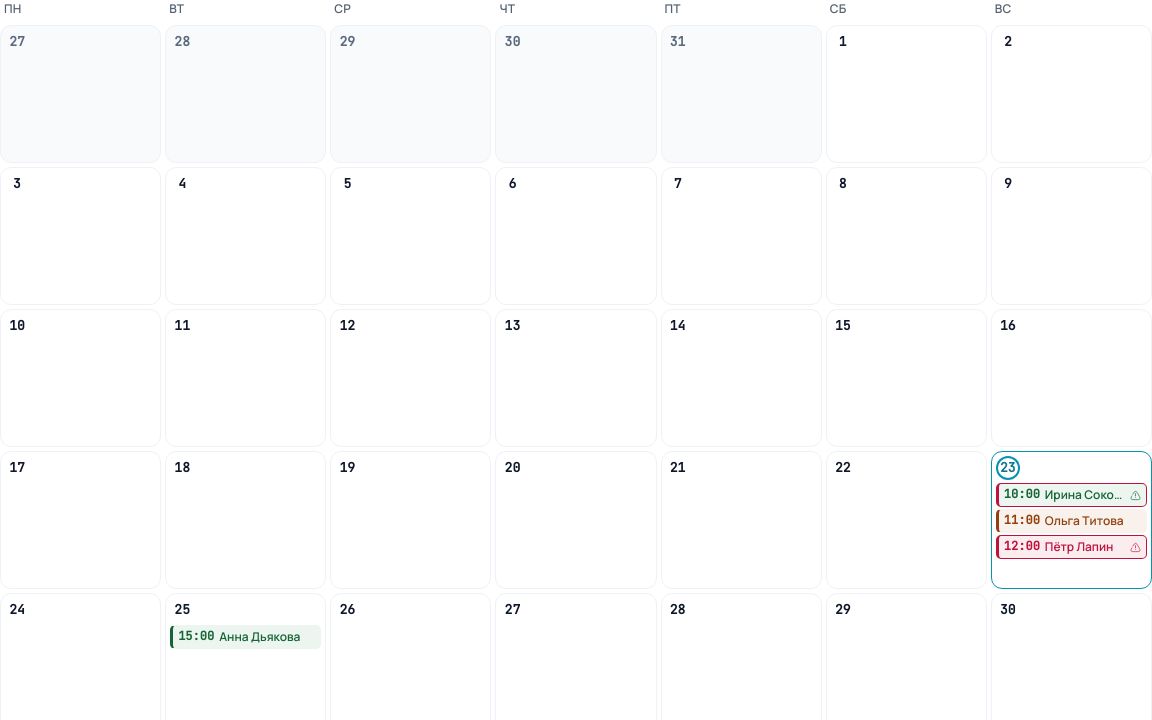
Test: Сетка месяца › 🔴 карточка записи открывается прямо из клетки месяца
Click the button with aria-label "Наряд № 1059": (1071, 495) [996,483,1147,507]
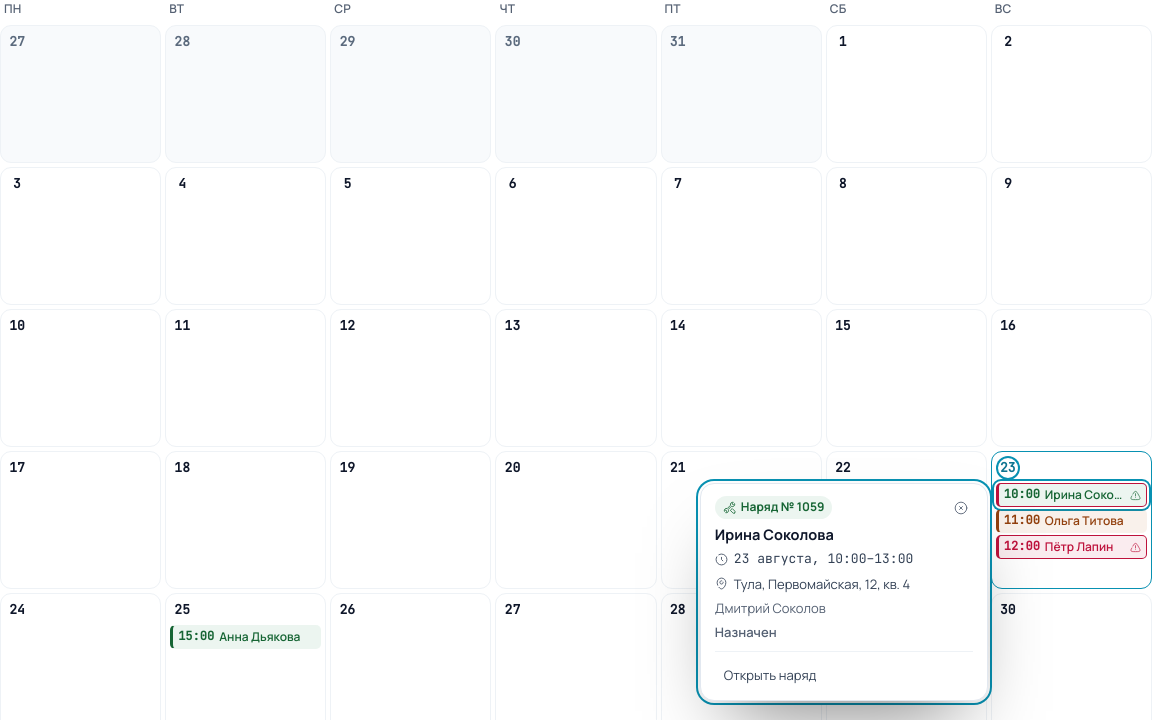
Check: the text "Ирина Соколова" below "Наряд № 1059" is shown, box [715,525,834,544]
